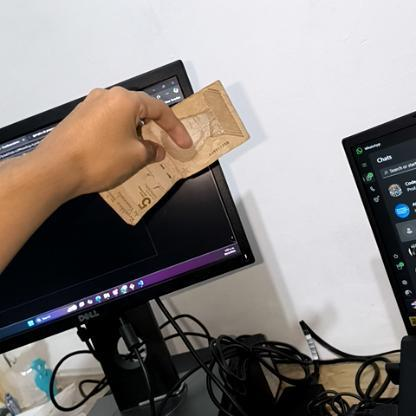vef_front: (96, 80, 250, 226)
